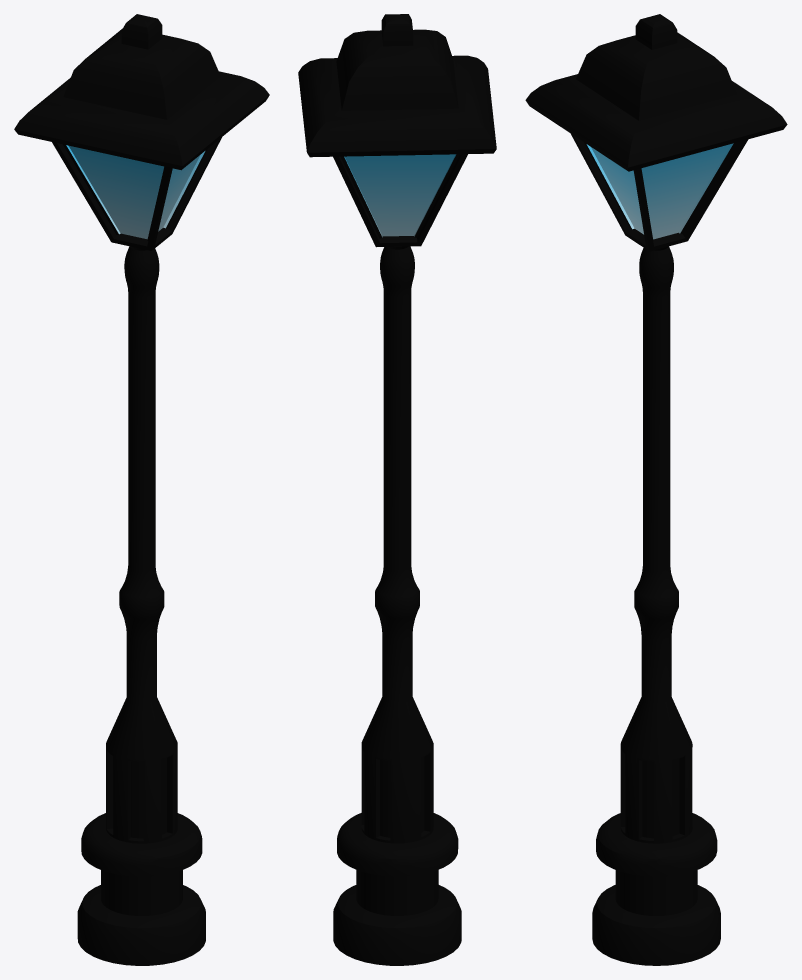
Rendered from streetlight.fbx.
3 renders of one model, left to right at view 1: azimuth 30°, elevation 25°; view 2: azimuth 150°, elevation 25°; view 3: azimuth 270°, elevation 25°, orthographic.
Parts seen in each view (by area): view 1: Cylinder.006; view 2: Cylinder.006; view 3: Cylinder.006.
Part boxes in pixels (left/top/right/bottom): Cylinder.006: left=14, top=14, right=269, bottom=965; Cylinder.006: left=298, top=14, right=496, bottom=965; Cylinder.006: left=525, top=14, right=787, bottom=965.
Size of the model in its own units: 63.99 by 248 by 63.99.
Materials: 2 (1 with a texture image).
